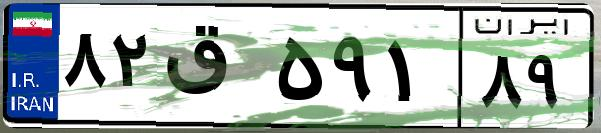1: (385, 28, 445, 110)
2: (110, 28, 158, 98)
5: (270, 28, 330, 110)
8: (57, 26, 110, 100), (475, 38, 525, 113)
9: (330, 28, 385, 110), (525, 38, 570, 115)
ق: (158, 20, 270, 120)
